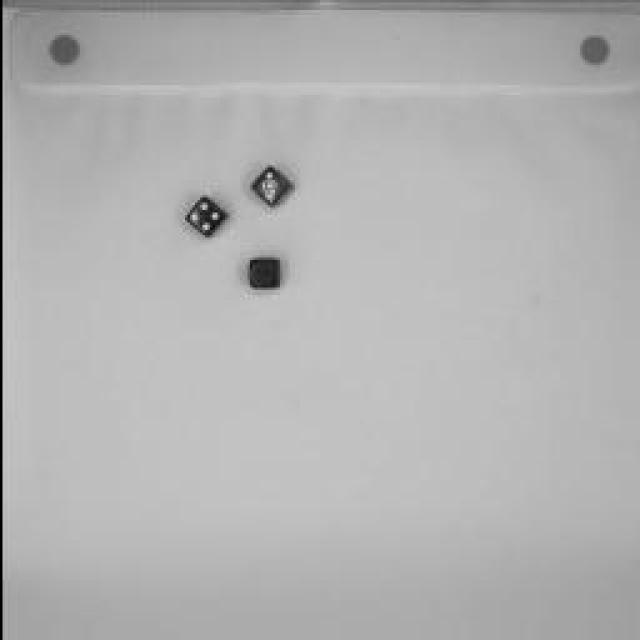dice_3: (242, 160, 298, 215)
dice_4: (179, 189, 229, 241), (242, 249, 286, 299)
